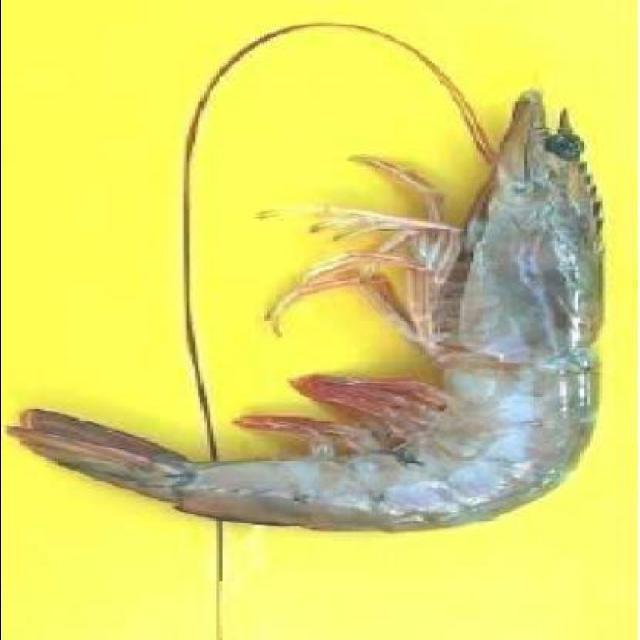shrimp: (9, 80, 632, 539)
